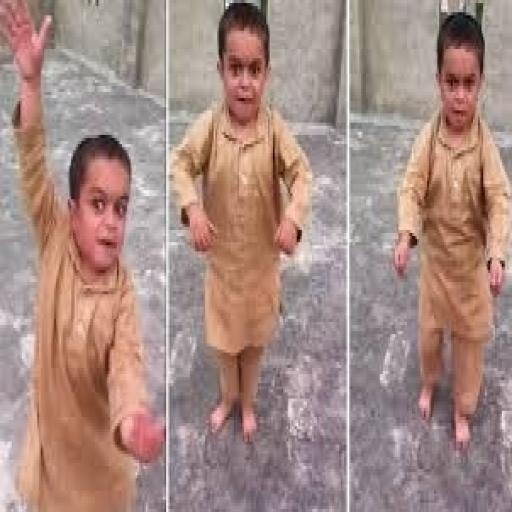dancing: (0, 0, 168, 509), (170, 0, 316, 448), (392, 9, 510, 457)
